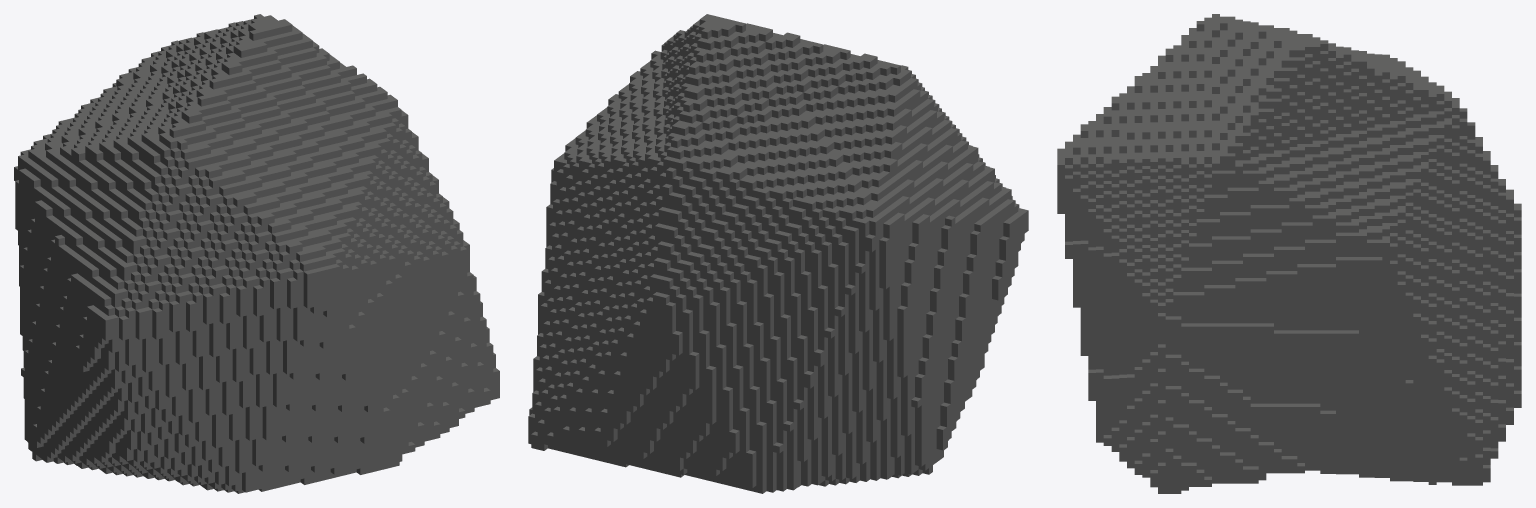
The model's file is Rock.obj.
3 views of the same model, side by side, from view 1: azimuth 30°, elevation 25°; view 2: azimuth 150°, elevation 25°; view 3: azimuth 270°, elevation 25° (orthographic). The views are drawn at different scales.
Visible parts, largest first — view 1: Rock; view 2: Rock; view 3: Rock.
Boxes of the visible parts, box(x1,y1,x2,y2) form: Rock: box(14, 14, 499, 493); Rock: box(528, 14, 1028, 493); Rock: box(1057, 14, 1521, 493).
Size of the model in its own units: 61 by 61 by 60.
